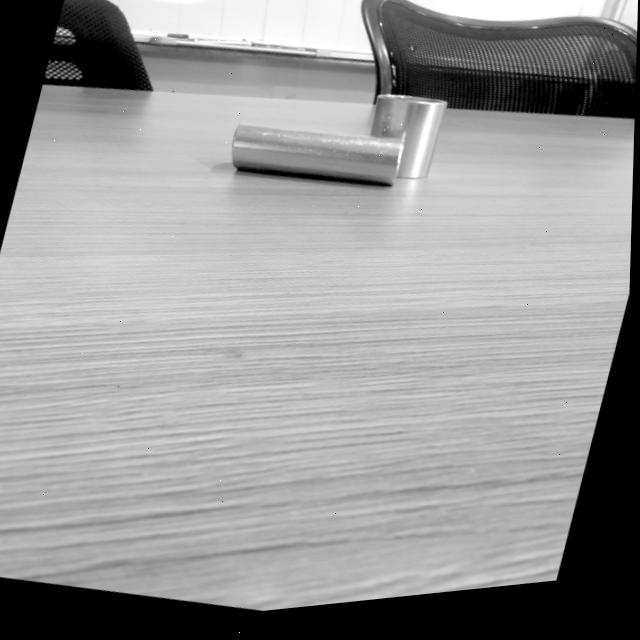Co_Lon: (230, 123, 403, 186)
Co_Nho: (364, 90, 446, 183)
